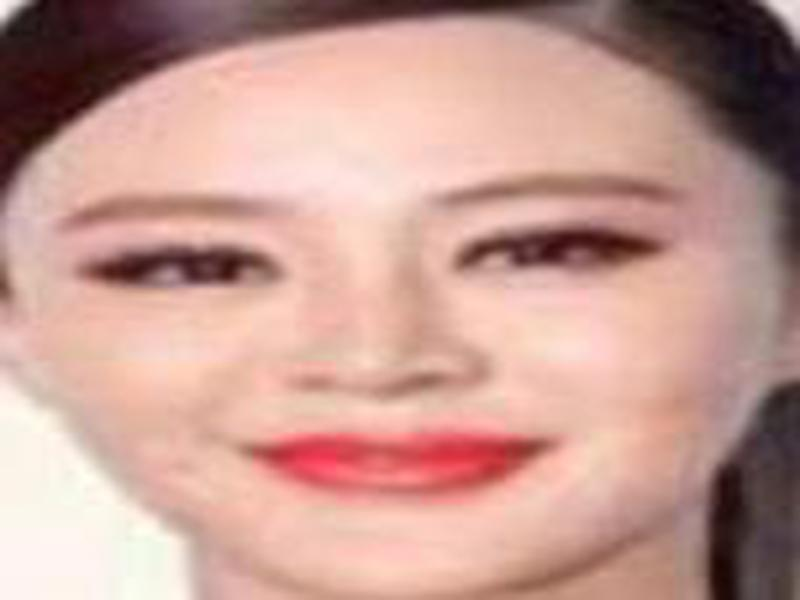without_mask: (8, 87, 756, 597)
